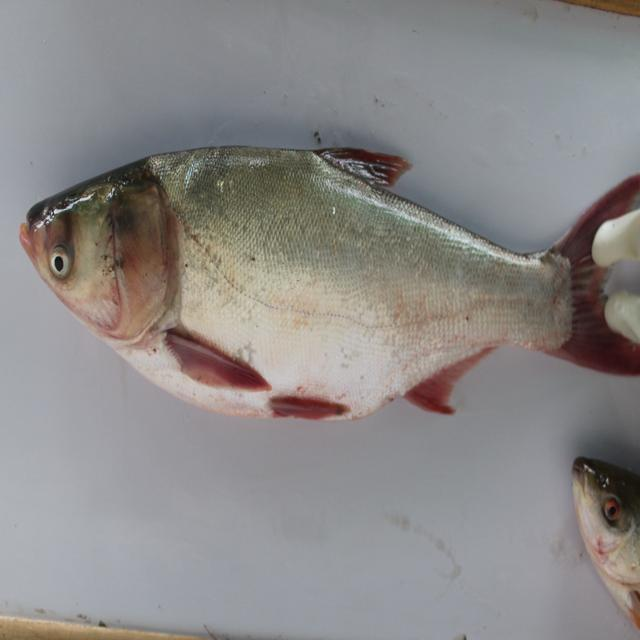SilverCarp: (23, 173, 640, 435)
